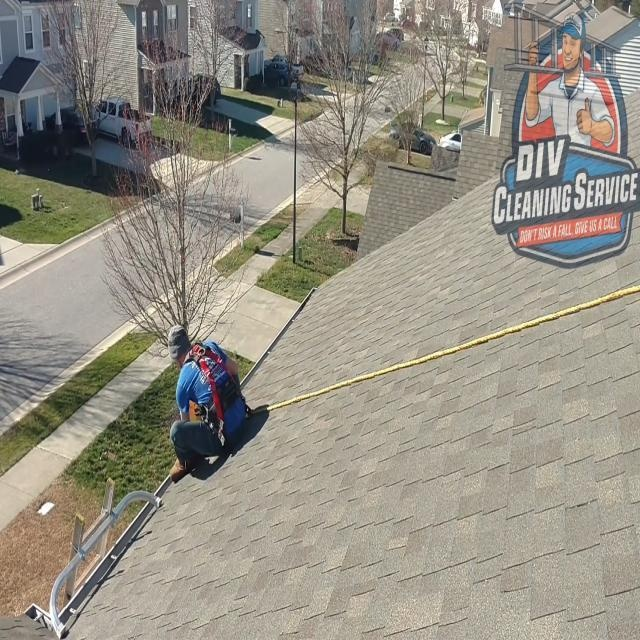Arnes_seguridad: (179, 341, 252, 451)
